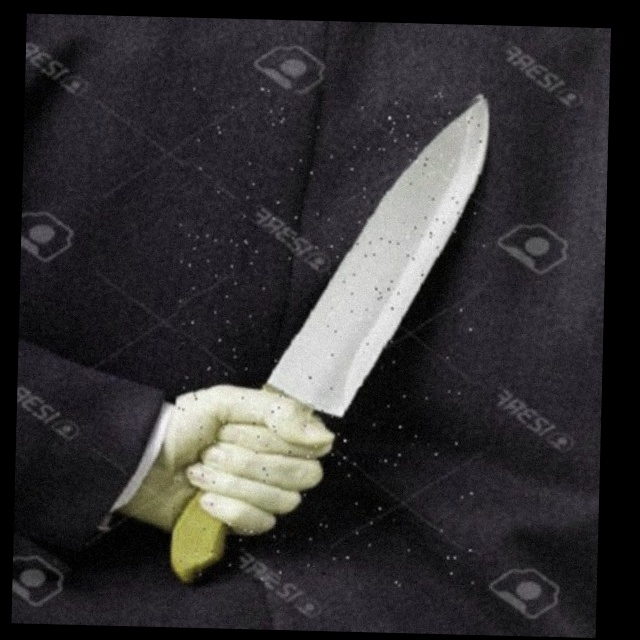Sharp-Object: (171, 86, 489, 588)
